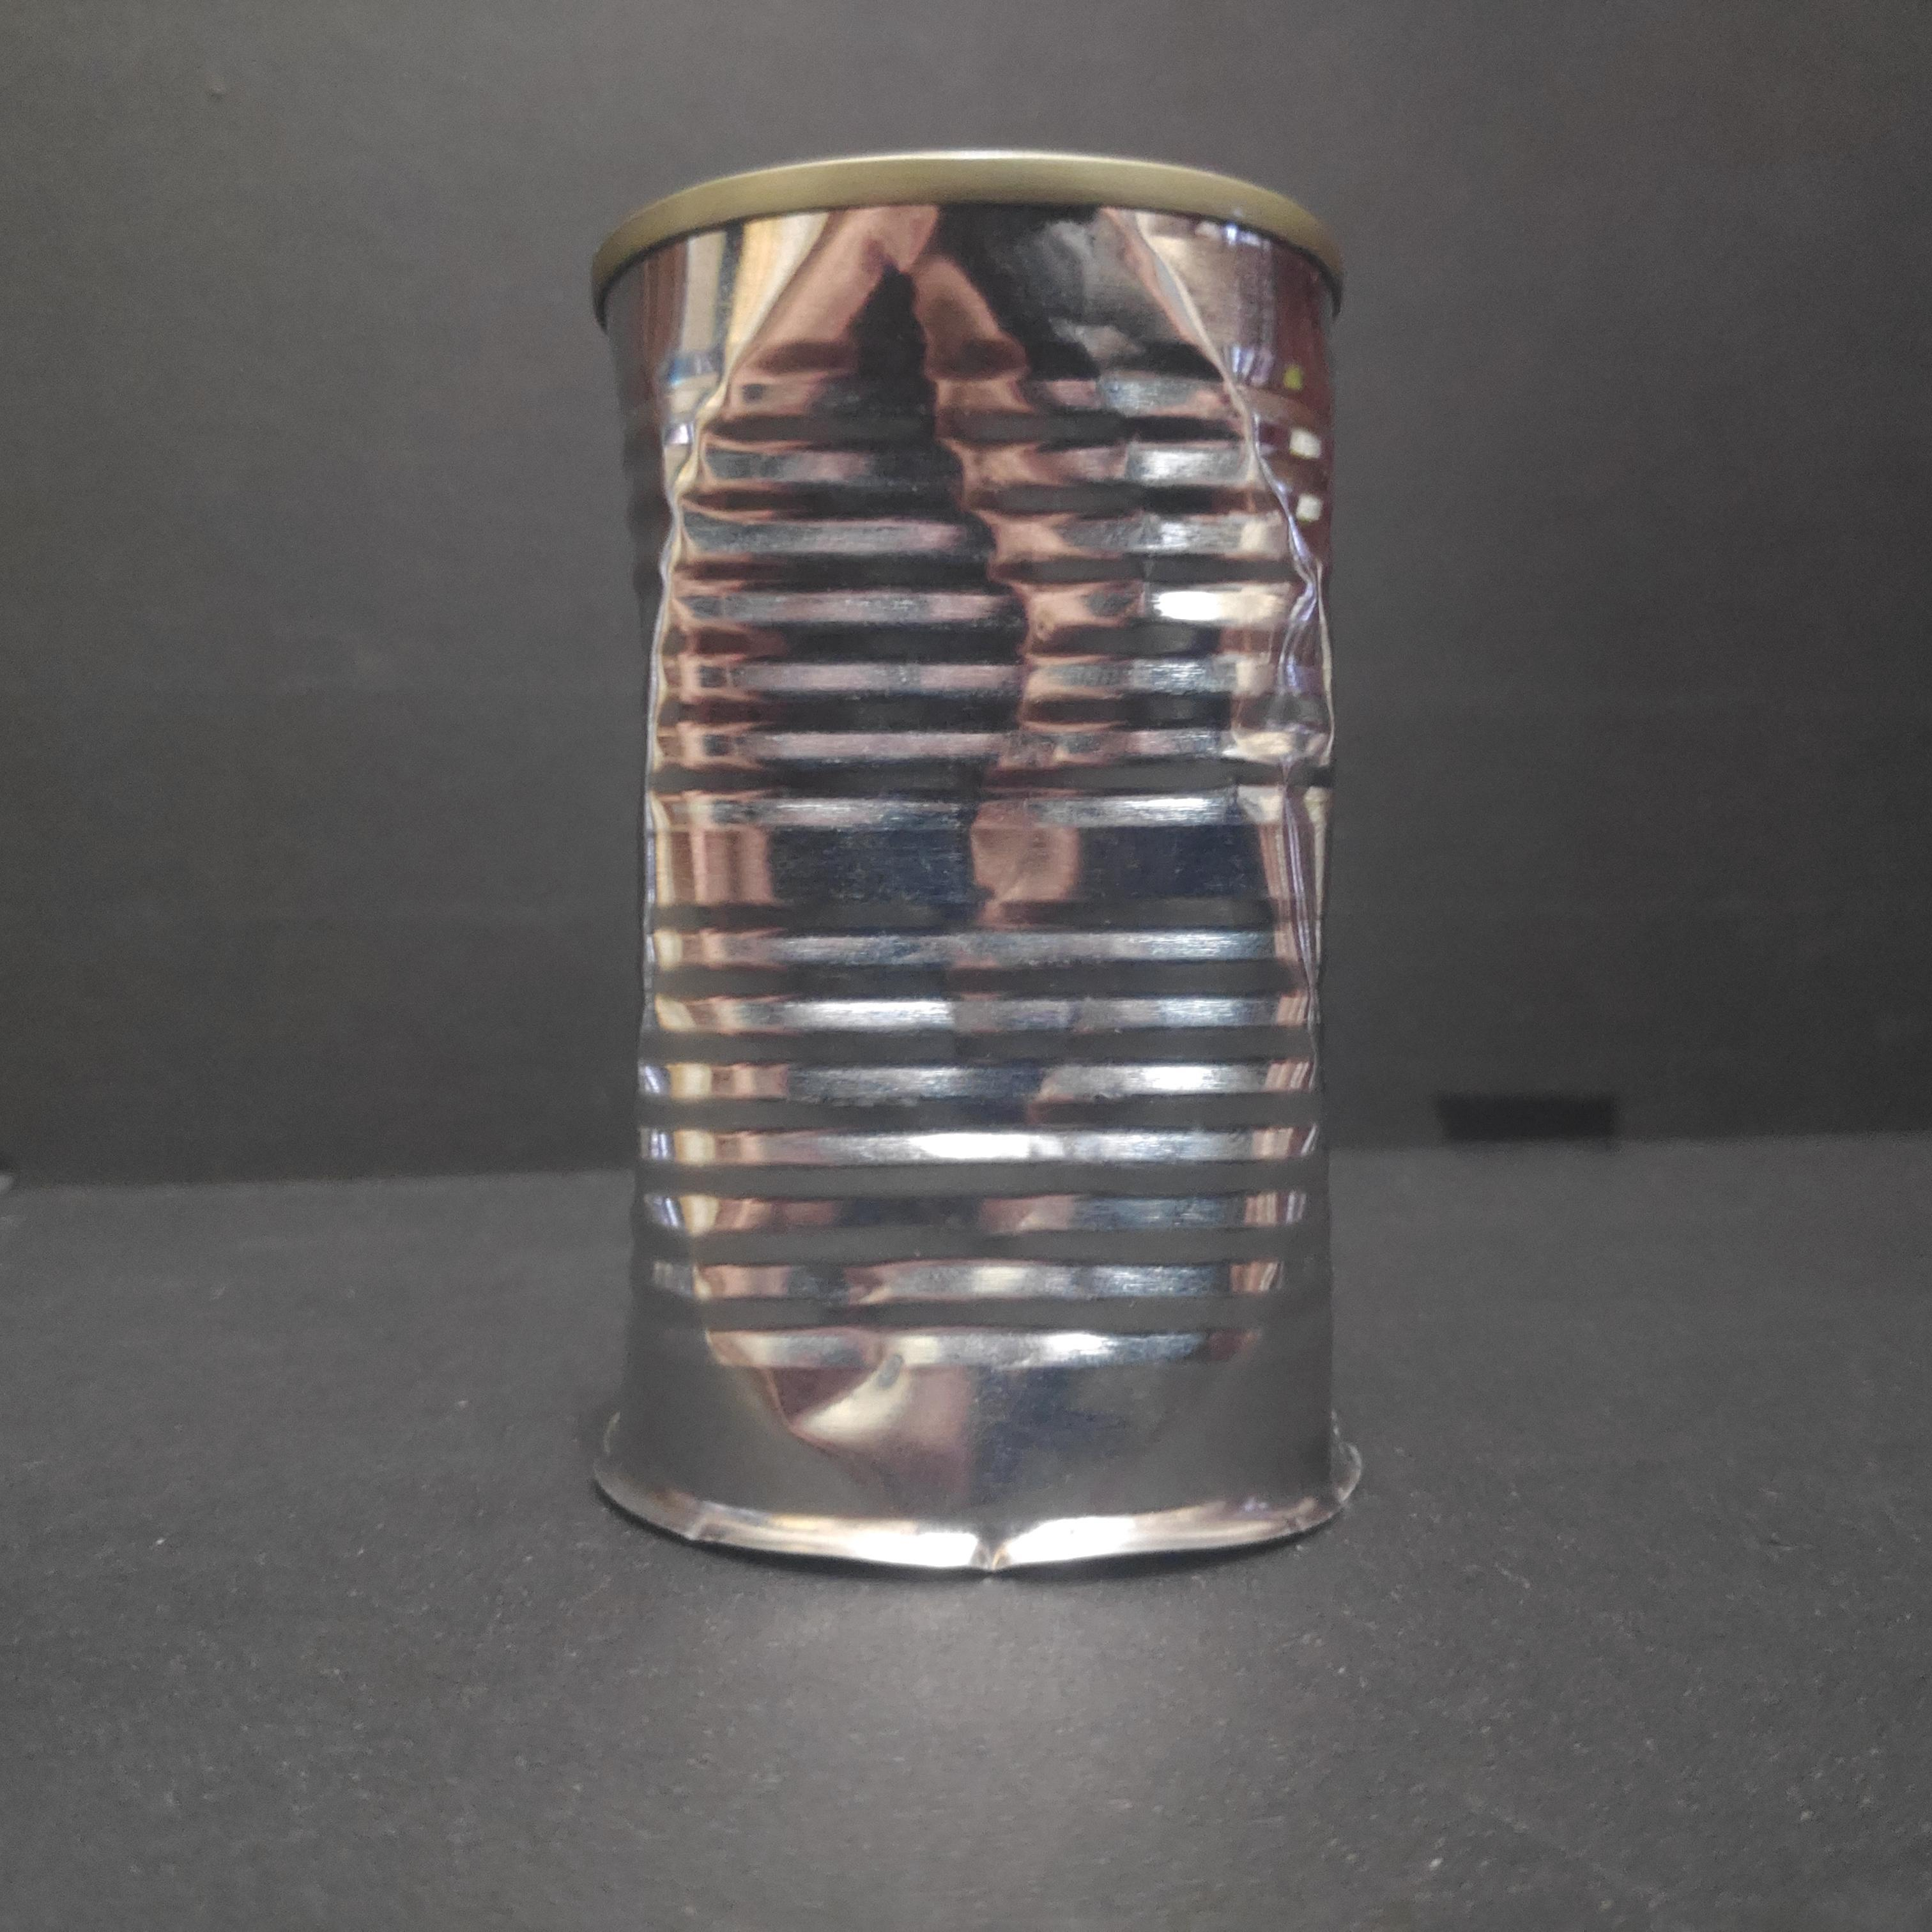Dented: (571, 119, 1399, 1591)
